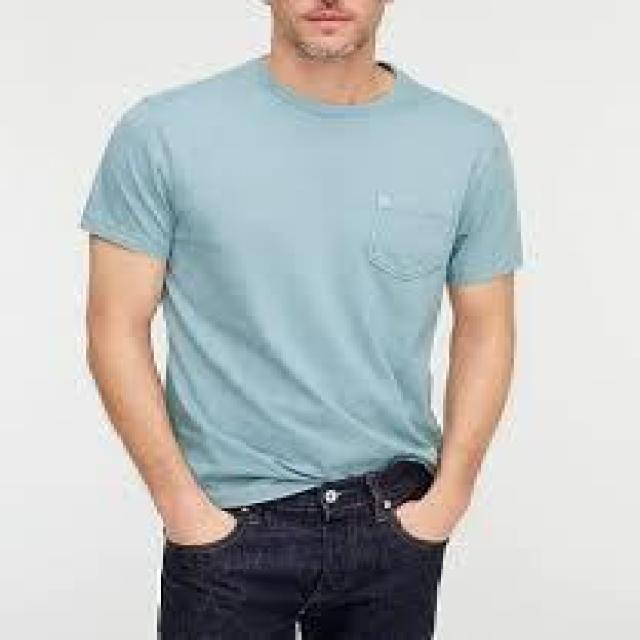Tshirt: (69, 67, 543, 520)
